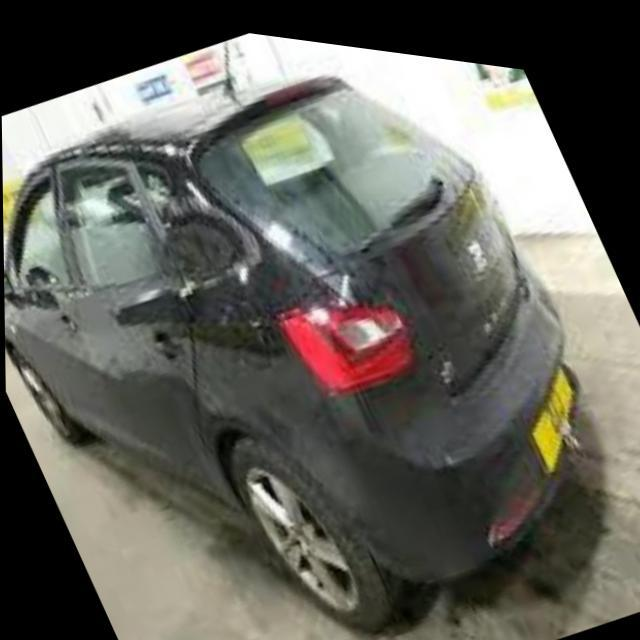glass shatter: (149, 192, 257, 301)
